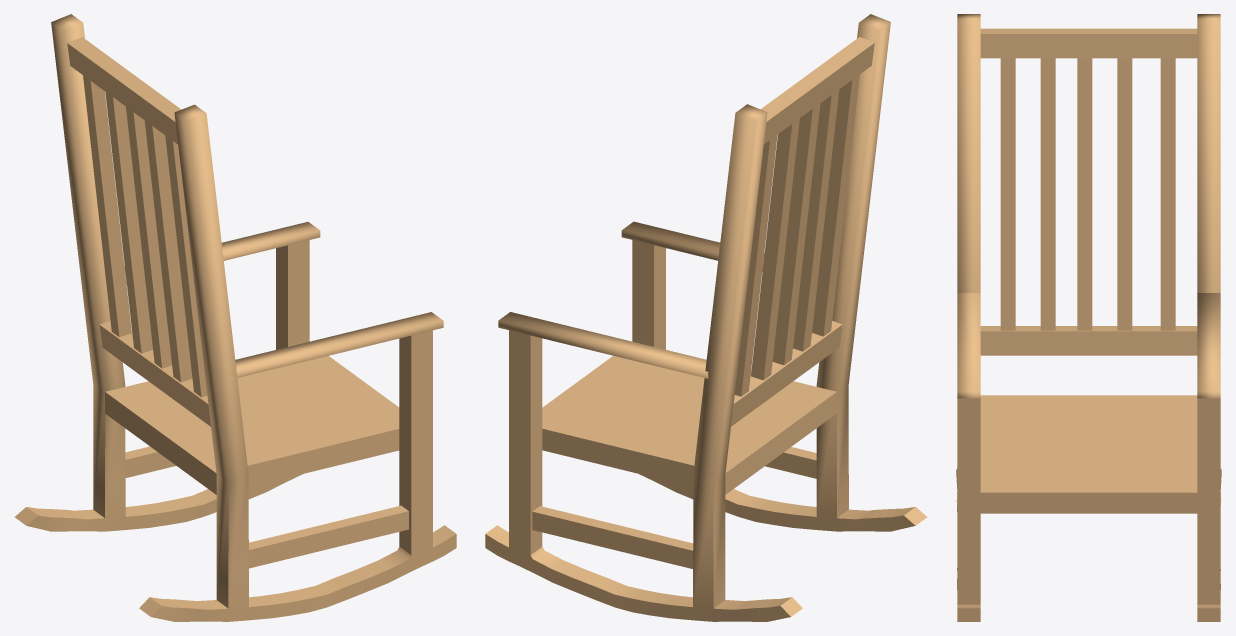
The model's file is rockingchair.fbx.
3 views of the same model, side by side, from view 1: azimuth 30°, elevation 25°; view 2: azimuth 150°, elevation 25°; view 3: azimuth 270°, elevation 25° (orthographic). The views are drawn at different scales.
Parts seen in each view (by area): view 1: Cube.001; view 2: Cube.001; view 3: Cube.001.
Boxes of the visible parts, left/top/right/bottom form: Cube.001: left=14, top=14, right=456, bottom=621; Cube.001: left=485, top=14, right=927, bottom=621; Cube.001: left=956, top=14, right=1221, bottom=621.
Size of the model in its own units: 418 by 685 by 323.
